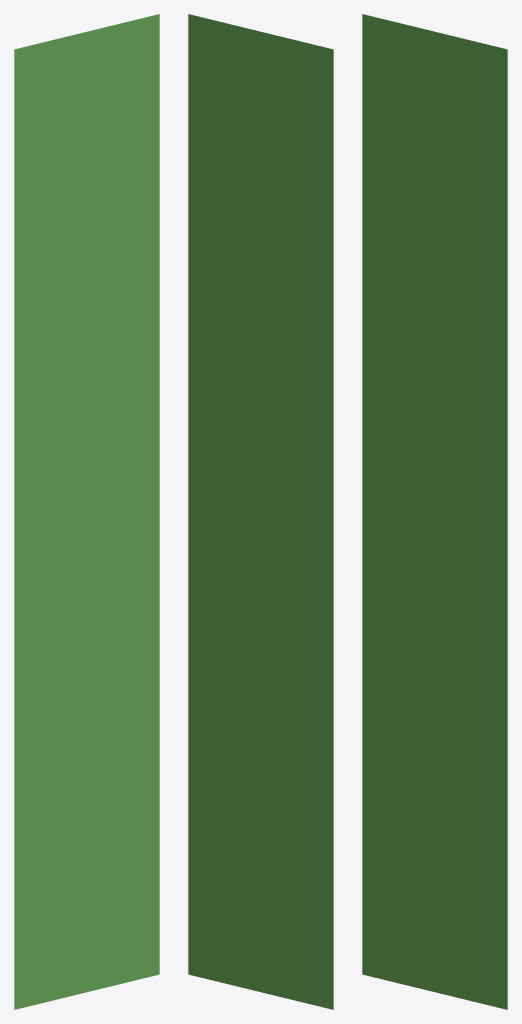
File: stage_3_veg_late.gltf
3 renders of one model, left to right at view 1: azimuth 30°, elevation 25°; view 2: azimuth 150°, elevation 25°; view 3: azimuth 330°, elevation 25°, orthographic.
Parts seen in each view (by area): view 1: plant_stage_3; view 2: plant_stage_3; view 3: plant_stage_3.
Boxes of the visible parts, x1,y1,x2,y2 form: plant_stage_3: (14, 14, 159, 1009); plant_stage_3: (188, 14, 333, 1009); plant_stage_3: (362, 14, 507, 1009).
Size of the model in its own units: 0.19 by 1.2 by 0.
